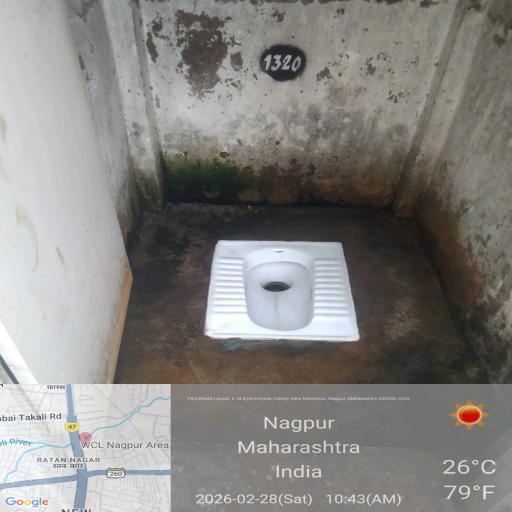clean_indian: (192, 234, 381, 347)
dirty_floor: (12, 15, 490, 204), (101, 330, 491, 512)
